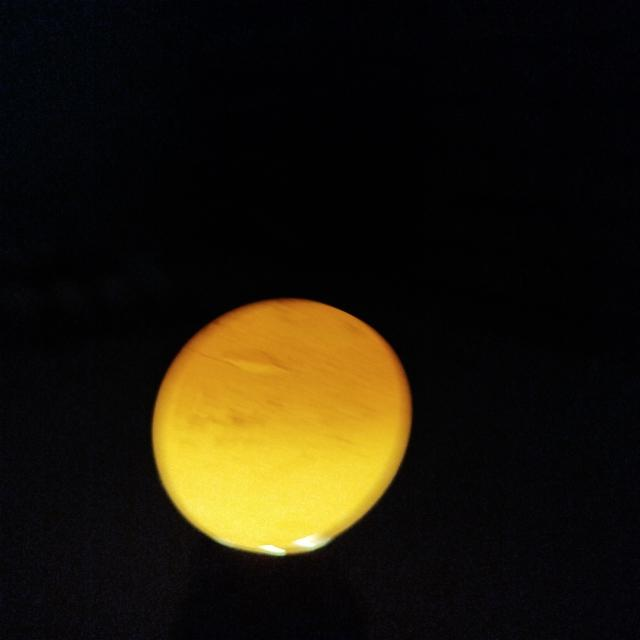Rachadura: (220, 352, 287, 375)
